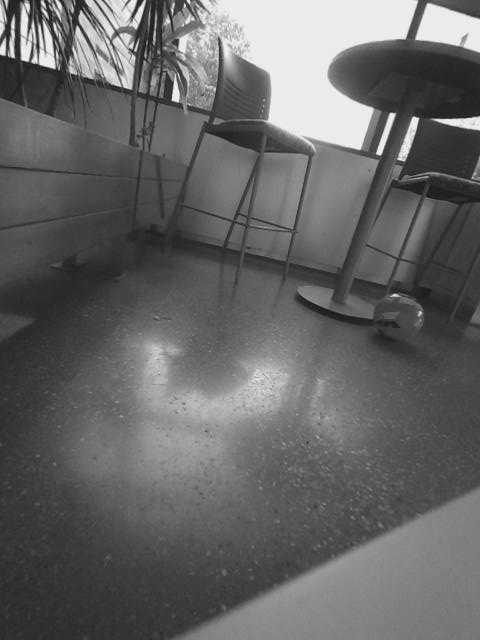ball: (369, 290, 430, 344)
